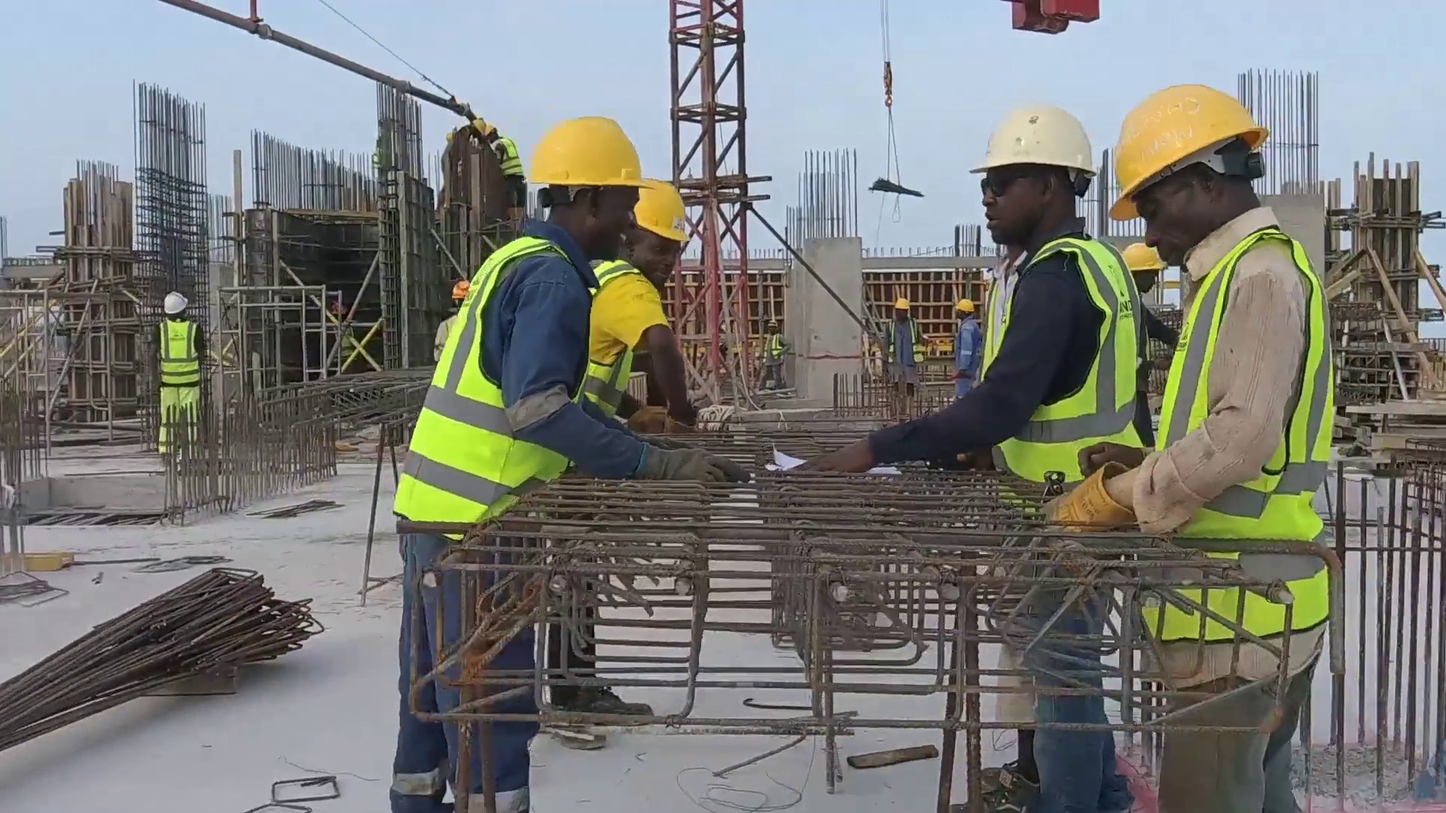helmet: (1106, 84, 1271, 222), (530, 115, 668, 191), (967, 105, 1099, 181), (634, 182, 691, 242), (1120, 243, 1170, 273), (163, 292, 189, 315), (470, 117, 496, 136), (451, 281, 471, 299), (955, 299, 975, 312), (894, 298, 911, 311), (767, 321, 782, 330)
person: (785, 106, 1155, 813), (384, 116, 756, 813), (1037, 83, 1349, 813), (586, 179, 701, 440), (1118, 242, 1185, 449), (153, 291, 206, 455), (877, 298, 930, 419), (468, 117, 529, 215), (432, 279, 472, 368), (952, 298, 984, 400), (761, 320, 795, 391), (323, 298, 355, 343)
